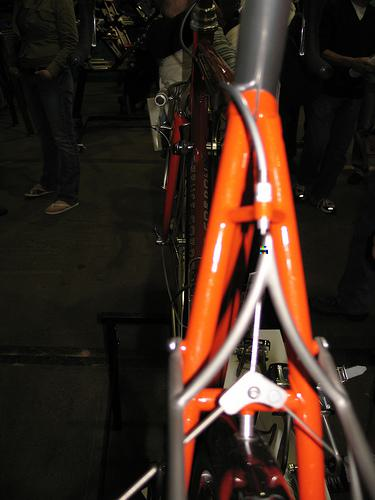car: (154, 1, 375, 500)
person: (294, 1, 375, 215), (8, 1, 83, 216)
